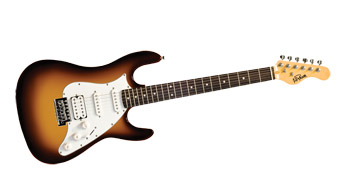ElectricGuitar: (9, 55, 336, 157)
